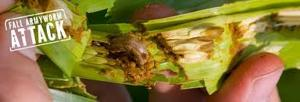fallarmy_worm: (97, 28, 160, 72)
